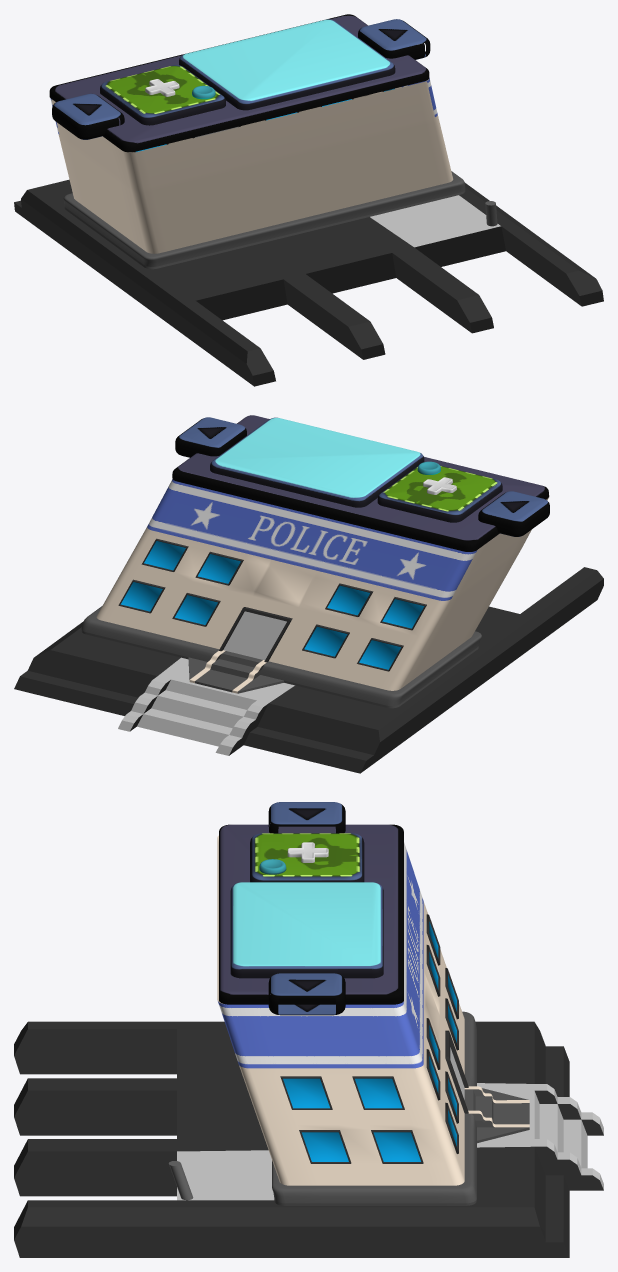
File: PoliceStationWaterBuilding+Hud_Back.fbx
3 views of the same model, one above another, from view 1: azimuth 30°, elevation 25°; view 2: azimuth 150°, elevation 25°; view 3: azimuth 270°, elevation 25° (orthographic). The views are drawn at different scales.
Parts seen in each view (by area): view 1: InterrogationBuilding, Mesh, ProcessIcon, MainPlane, ManagerIcon, Arrow2, Arrow1; view 2: InterrogationBuilding, Mesh, ProcessIcon, MainPlane, ManagerIcon, Arrow2, Arrow1; view 3: Mesh, InterrogationBuilding, ProcessIcon, MainPlane, ManagerIcon, Arrow1, Arrow2.
Boxes of the visible parts, x1,y1,x2,y2 form: InterrogationBuilding: (50, 78, 465, 269); Mesh: (14, 179, 603, 386); ProcessIcon: (179, 19, 395, 110); MainPlane: (49, 14, 429, 152); ManagerIcon: (100, 65, 225, 125); Arrow2: (52, 93, 124, 139); Arrow1: (358, 19, 430, 59); InterrogationBuilding: (81, 479, 549, 708); Mesh: (14, 567, 603, 773); ProcessIcon: (210, 417, 424, 507); MainPlane: (172, 415, 548, 551); ManagerIcon: (377, 465, 502, 522); Arrow2: (478, 491, 549, 536); Arrow1: (175, 417, 246, 457); Mesh: (14, 1021, 603, 1257); InterrogationBuilding: (217, 835, 529, 1205); ProcessIcon: (230, 882, 383, 978); MainPlane: (219, 824, 403, 1004); ManagerIcon: (250, 833, 364, 882); Arrow1: (268, 973, 345, 1015); Arrow2: (268, 802, 345, 833).
Size of the model in its own units: 760 by 817 by 354.
